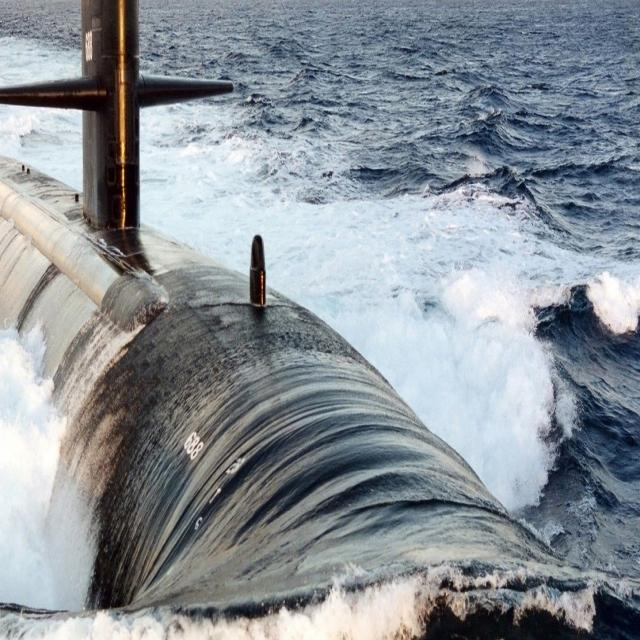submarine: (1, 1, 595, 640)
